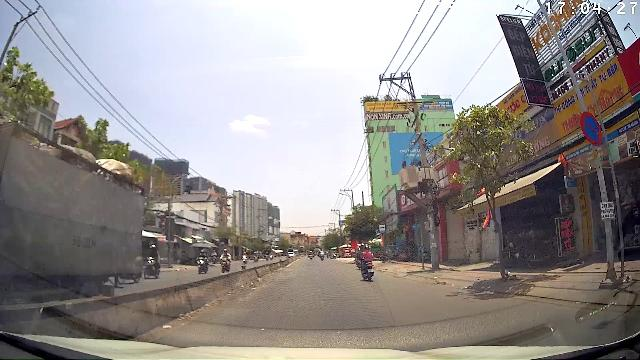131a-cam-do-xe: (580, 112, 602, 146)
